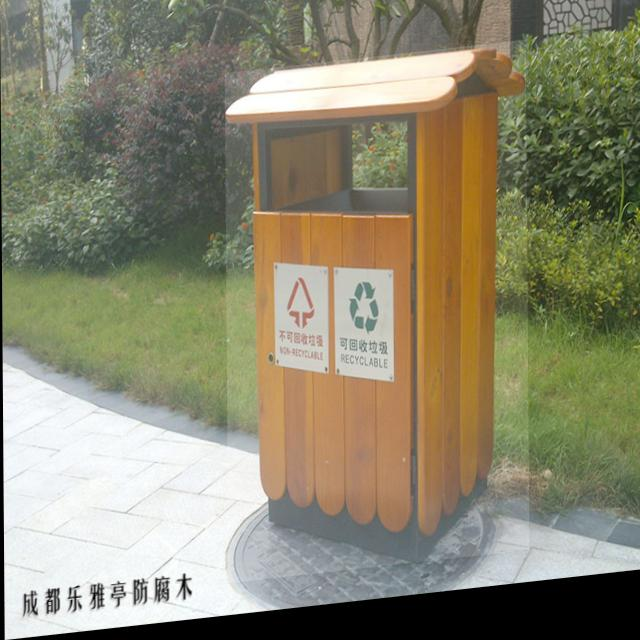garbage_bin: (225, 52, 529, 588)
